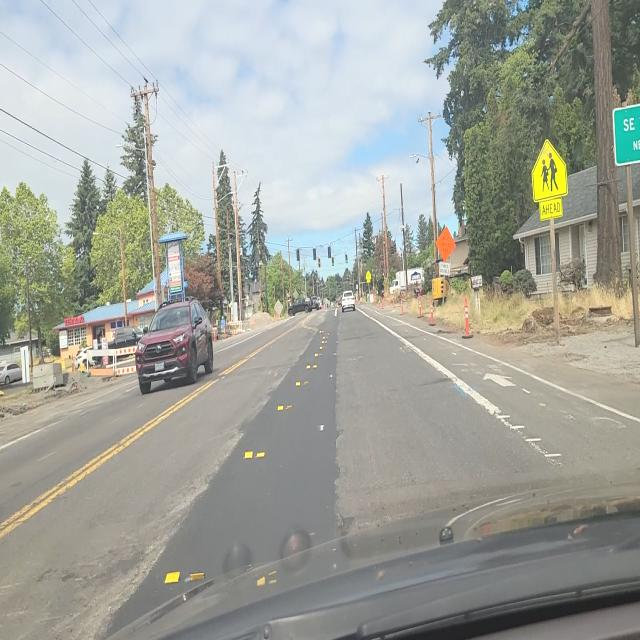car: (135, 295, 215, 392), (75, 329, 139, 368), (0, 362, 23, 386), (288, 300, 310, 316), (341, 290, 356, 312), (310, 296, 321, 310)
crosswalk-sign: (530, 138, 568, 220), (379, 270, 385, 284), (366, 270, 372, 282)
delineator: (461, 294, 474, 339), (417, 292, 424, 318), (429, 299, 435, 326), (464, 296, 468, 322), (400, 295, 404, 315), (356, 292, 362, 304), (392, 294, 396, 309), (389, 294, 393, 308), (250, 318, 254, 330), (381, 293, 384, 308), (373, 290, 376, 304), (268, 315, 270, 323)
